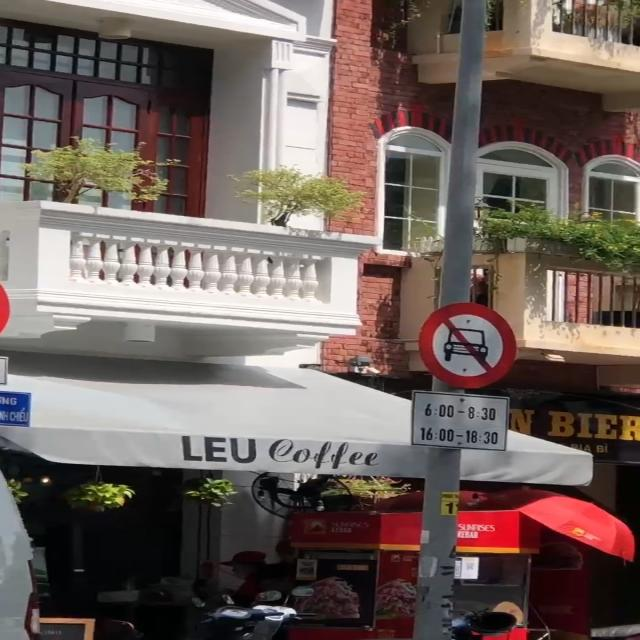Bien bao cam xe oto: (409, 289, 522, 393)
